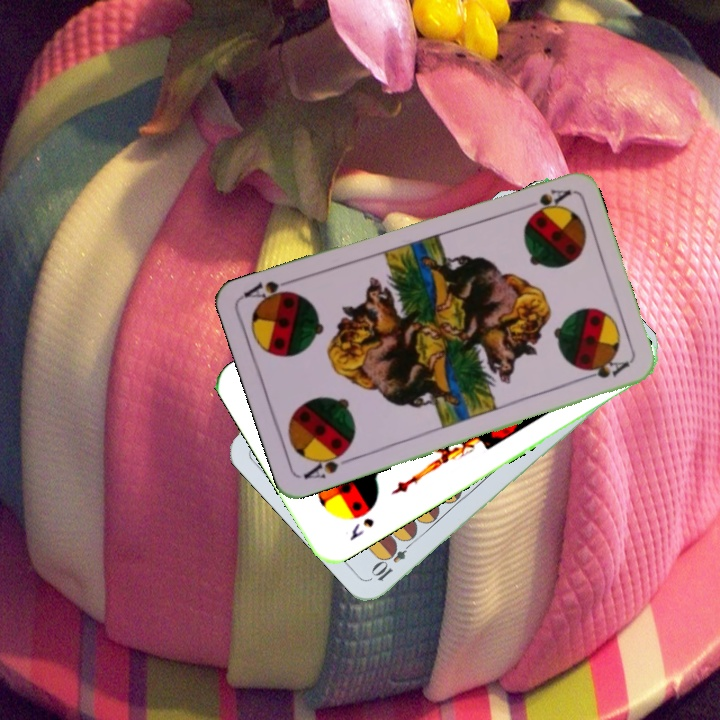E10: (368, 535, 417, 584)
SA: (299, 444, 356, 482), (516, 185, 573, 215)
SK: (345, 513, 377, 543)
